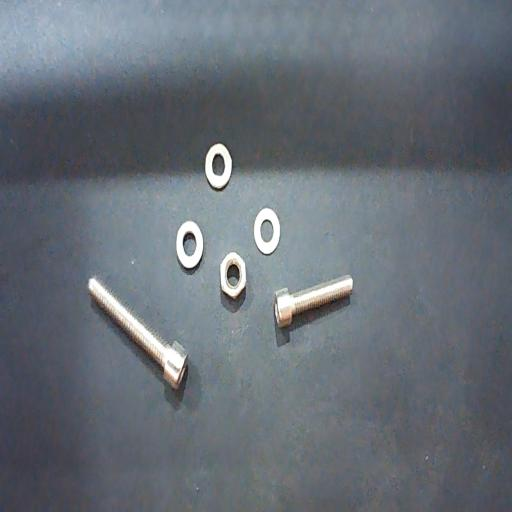nut: (220, 251, 246, 299)
screw: (88, 276, 187, 390), (274, 275, 352, 329)
washer: (176, 220, 204, 269), (205, 142, 232, 188), (254, 208, 280, 254)
